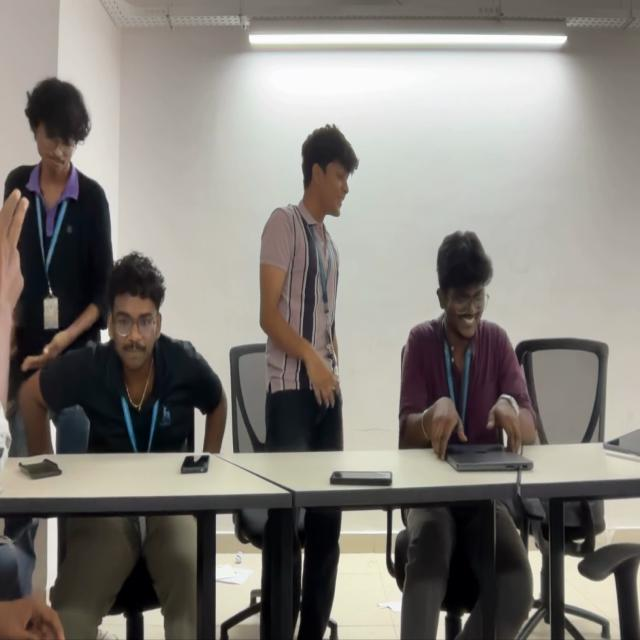Isolated: (258, 123, 358, 448), (398, 232, 536, 466)
socializing: (5, 73, 226, 453)
